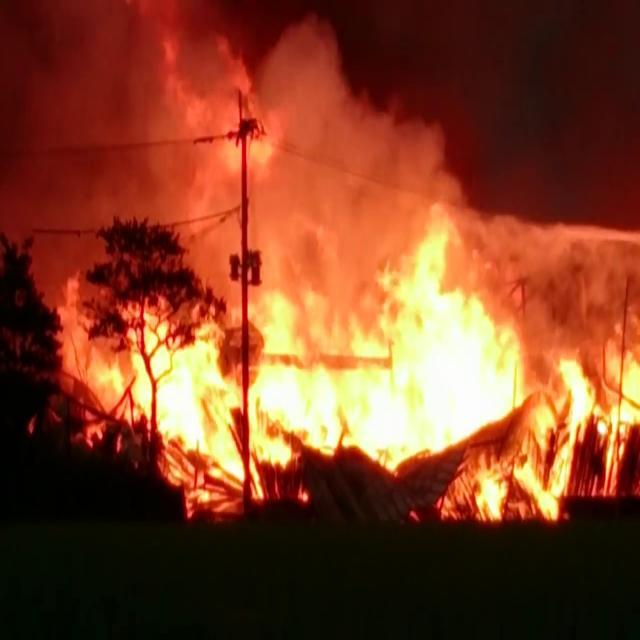Fire: (356, 209, 524, 470), (475, 351, 640, 523), (206, 287, 304, 513), (164, 36, 286, 164), (130, 313, 207, 511), (58, 273, 128, 453), (304, 280, 356, 462), (434, 469, 474, 524)
Smoke: (0, 0, 164, 224), (248, 162, 357, 279), (344, 102, 462, 208), (166, 168, 242, 284), (288, 16, 345, 162), (164, 0, 234, 36)
